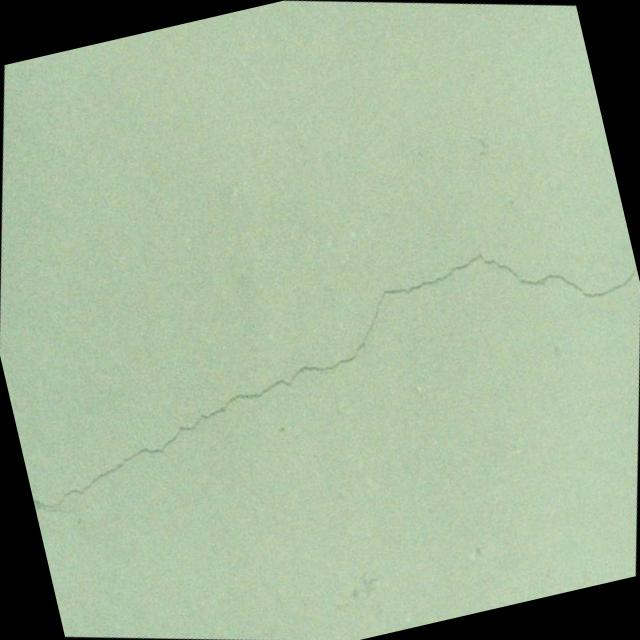crack: (0, 105, 640, 640), (114, 504, 156, 526)
